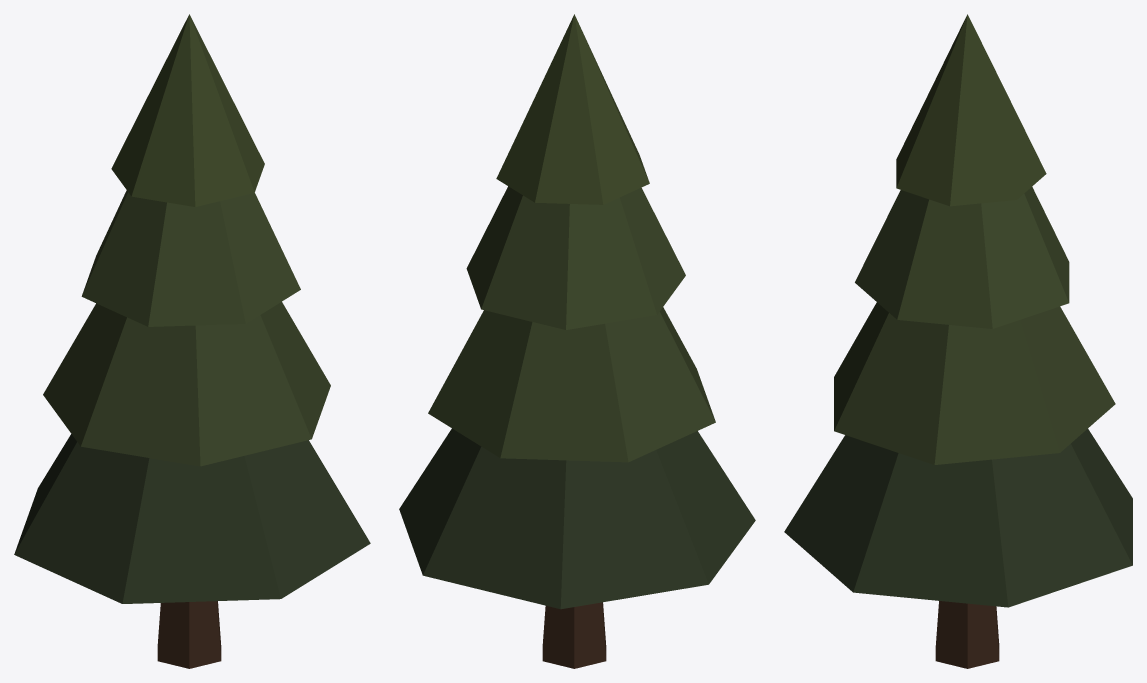
The model's file is pine.glb.
The picture shows the model from 3 angles, left to right: view 1: azimuth 30°, elevation 25°; view 2: azimuth 150°, elevation 25°; view 3: azimuth 270°, elevation 25°; orthographic projection.
Parts seen in each view (by area): view 1: lit; view 2: lit; view 3: lit.
Part boxes in pixels (left/top/right/bottom): lit: left=14, top=14, right=370, bottom=668; lit: left=399, top=14, right=755, bottom=668; lit: left=784, top=14, right=1132, bottom=668.
Bounding box in the file's own units: 2.53 × 5 × 2.47.
